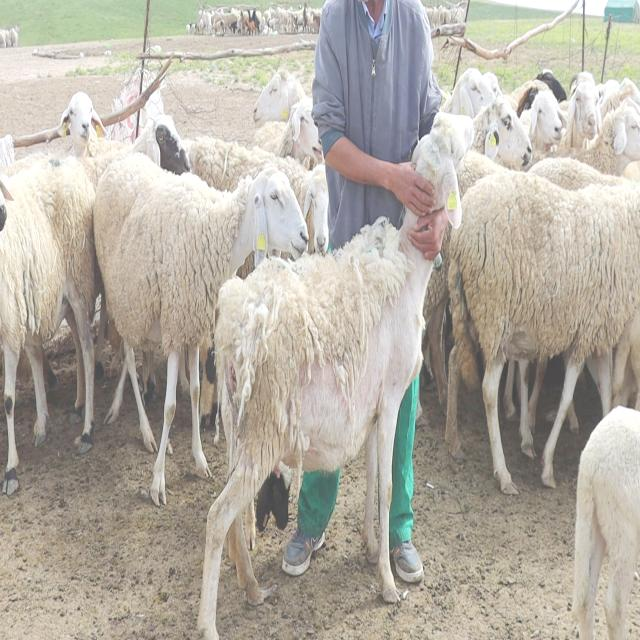Score_2: (197, 219, 433, 639), (437, 175, 451, 246)
